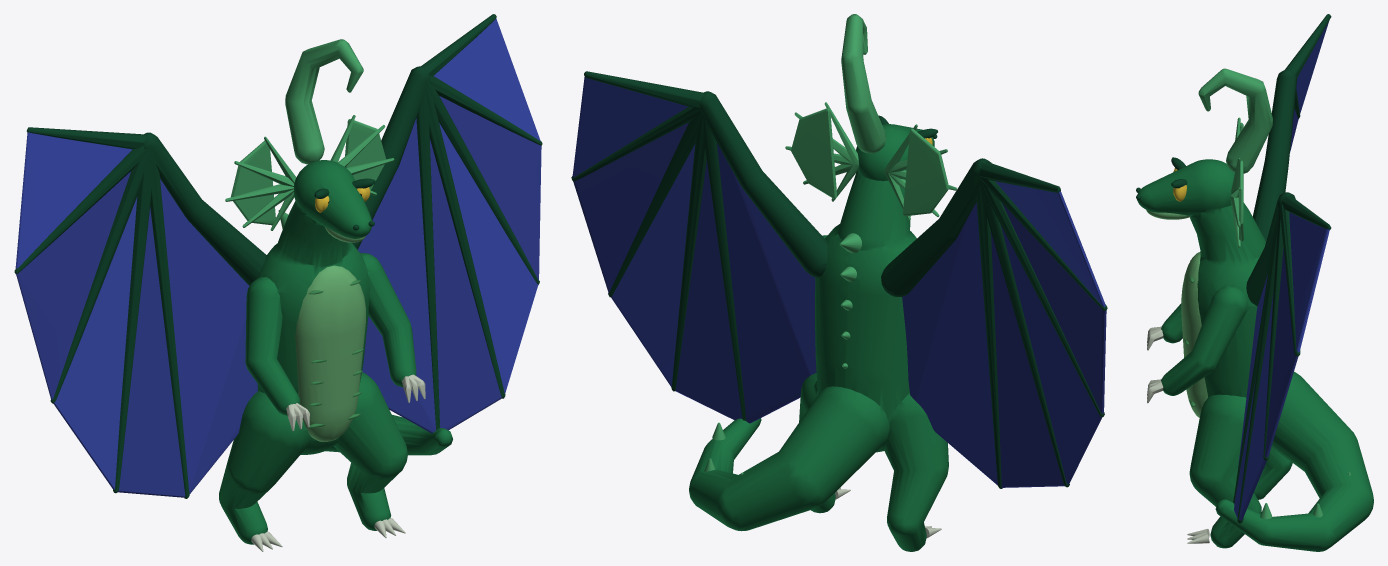
The model's file is rexaloft.glb.
The picture shows the model from 3 angles, left to right: view 1: azimuth 30°, elevation 25°; view 2: azimuth 150°, elevation 25°; view 3: azimuth 270°, elevation 25°; orthographic projection. The views are drawn at different scales.
Parts seen in each view (by area): view 1: creature; view 2: creature; view 3: creature.
Boxes of the visible parts, bbox=[...] form: creature: bbox=[14, 14, 542, 551]; creature: bbox=[571, 14, 1107, 551]; creature: bbox=[1136, 14, 1373, 551].
Bounding box in the file's own units: 1.11 × 1 × 0.4668.
